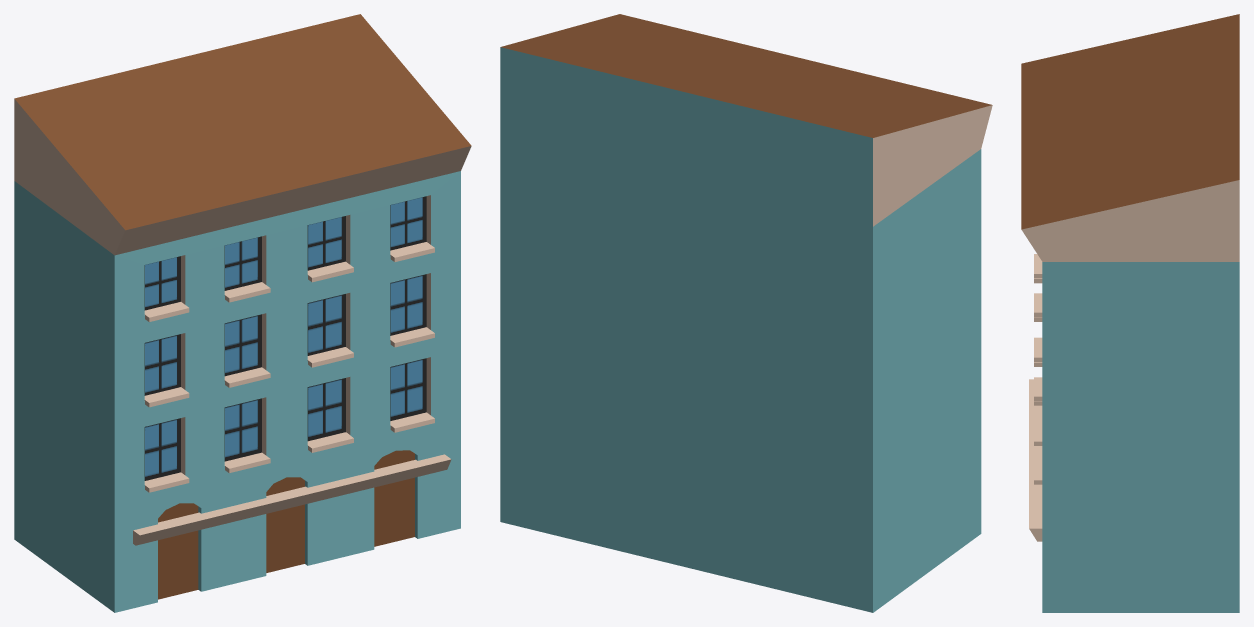
The model's file is BigBlue.obj.
The picture shows the model from 3 angles, left to right: view 1: azimuth 30°, elevation 25°; view 2: azimuth 150°, elevation 25°; view 3: azimuth 270°, elevation 25°; orthographic projection. The views are drawn at different scales.
Parts seen in each view (by area): view 1: DuzyZwyklyBlekitny; view 2: DuzyZwyklyBlekitny; view 3: DuzyZwyklyBlekitny.
Part boxes in pixels (<box>): DuzyZwyklyBlekitny: <box>14,14,471,612</box>; DuzyZwyklyBlekitny: <box>500,14,992,612</box>; DuzyZwyklyBlekitny: <box>1021,14,1239,612</box>.
Bounding box in the file's own units: 10.96 × 13.33 × 6.09.
